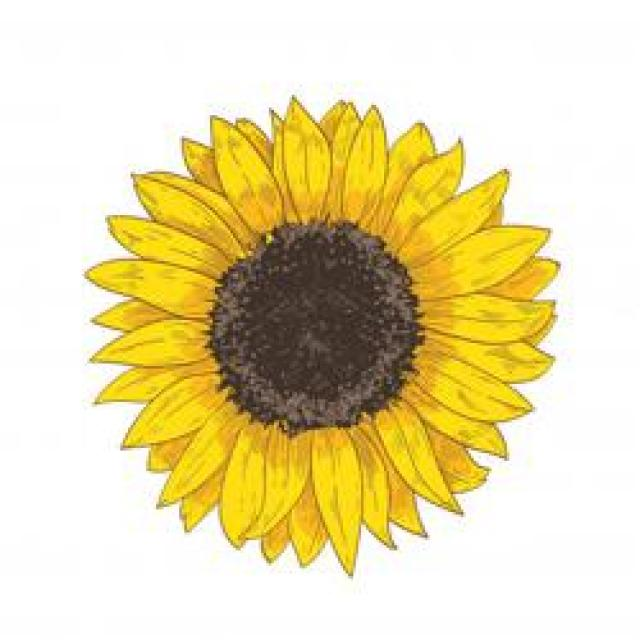sunflower: (73, 79, 562, 584)
